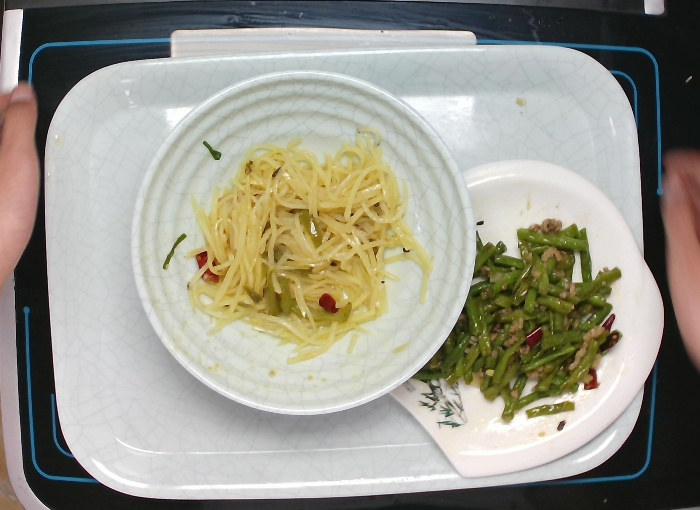JYsf-Da_Tang_Wan: (130, 72, 482, 419)
JYsf-Mian_Pan: (393, 157, 669, 481)
